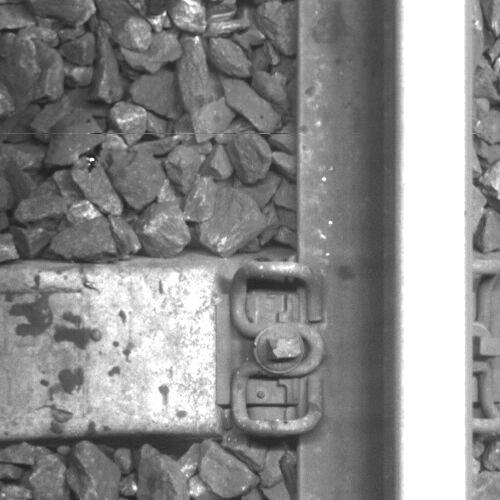rail: (396, 2, 473, 500)
tie_concr: (1, 263, 303, 429)
vossloh: (218, 260, 328, 435)
